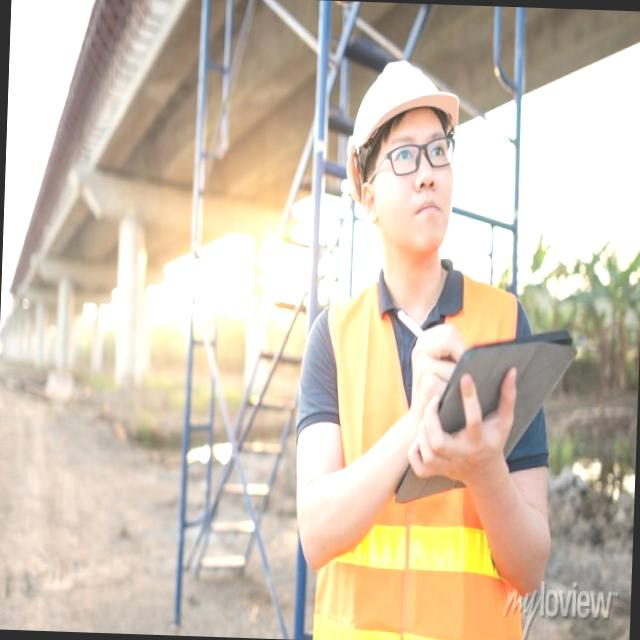goggles: (354, 129, 461, 186)
helmet: (339, 38, 464, 196)
vest: (309, 268, 540, 640)
